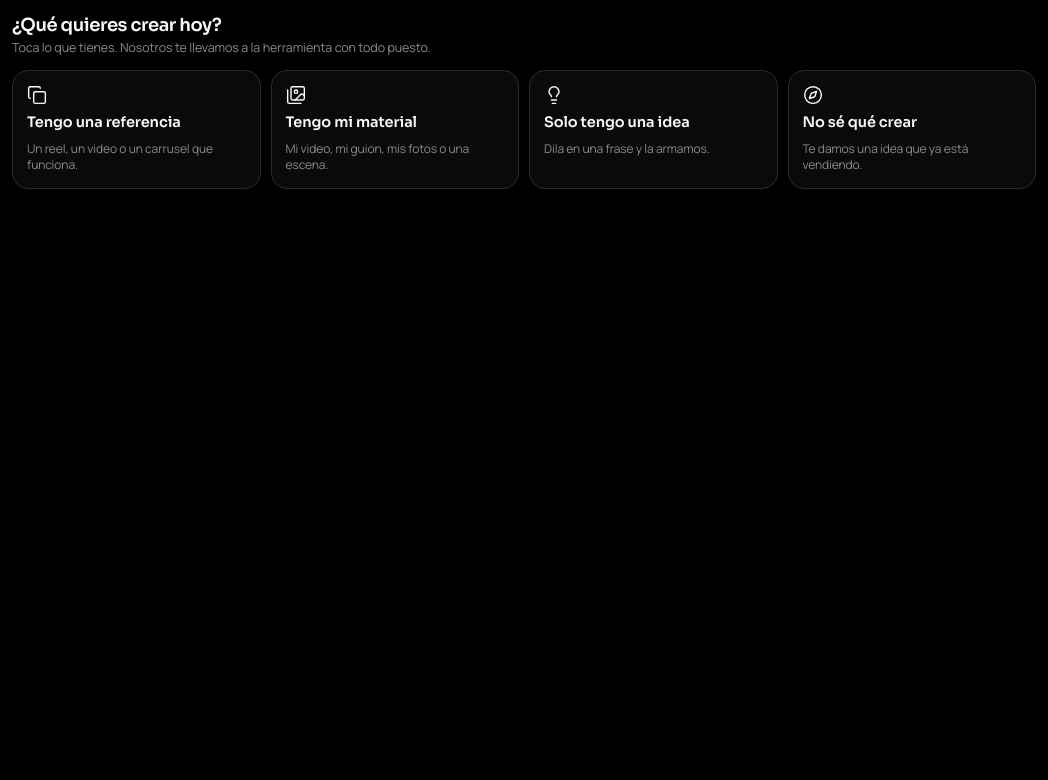
Test: ¿Qué quieres crear hoy? · 4 entradas por lo que tienes (Guardián del Creador) › material: cada opción lleva a su herramienta; lo de admin no se le muestra a un cliente
The image size is (1048, 780).
Later steps or results of the test are not shown.
Click the text "Tengo mi material" at (351, 123), box [286,113,417,133]
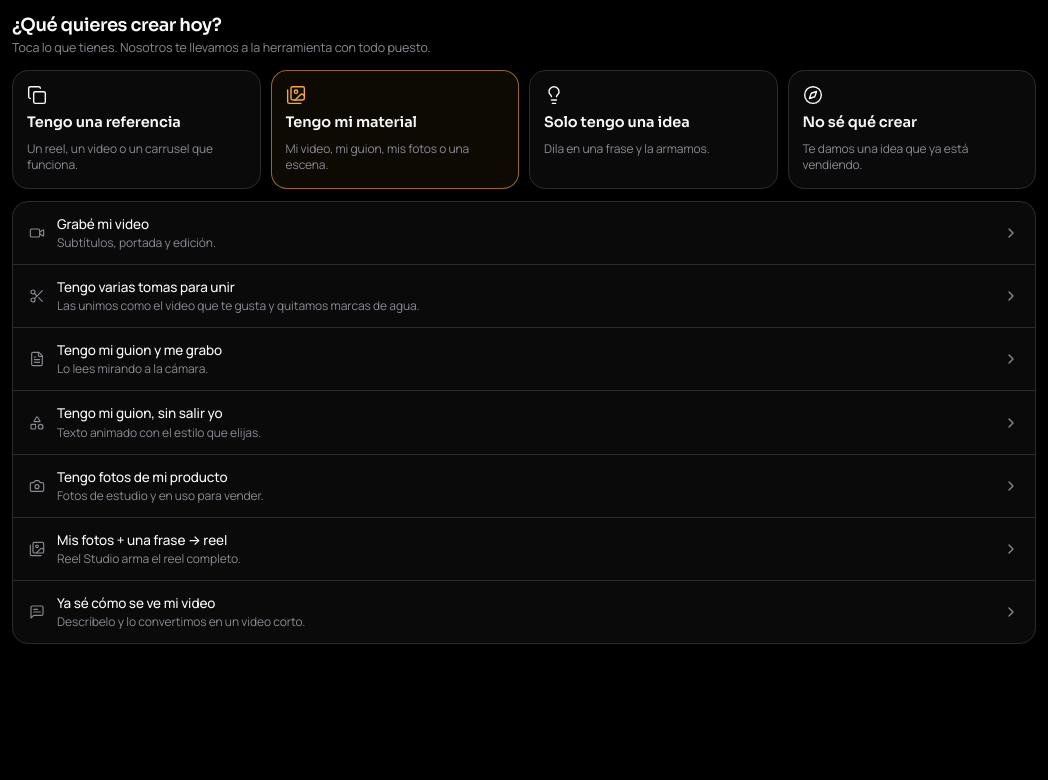
Expected: the text "Mis fotos + una frase → reel" is shown, [57,531,227,549]
